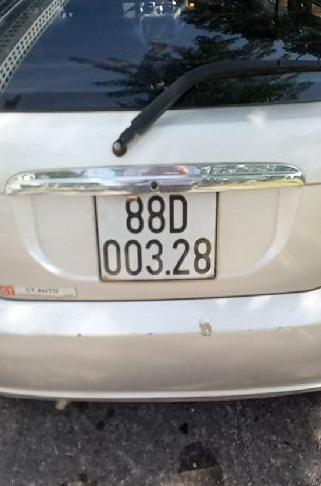Plate-iWeP: (91, 183, 226, 285)
